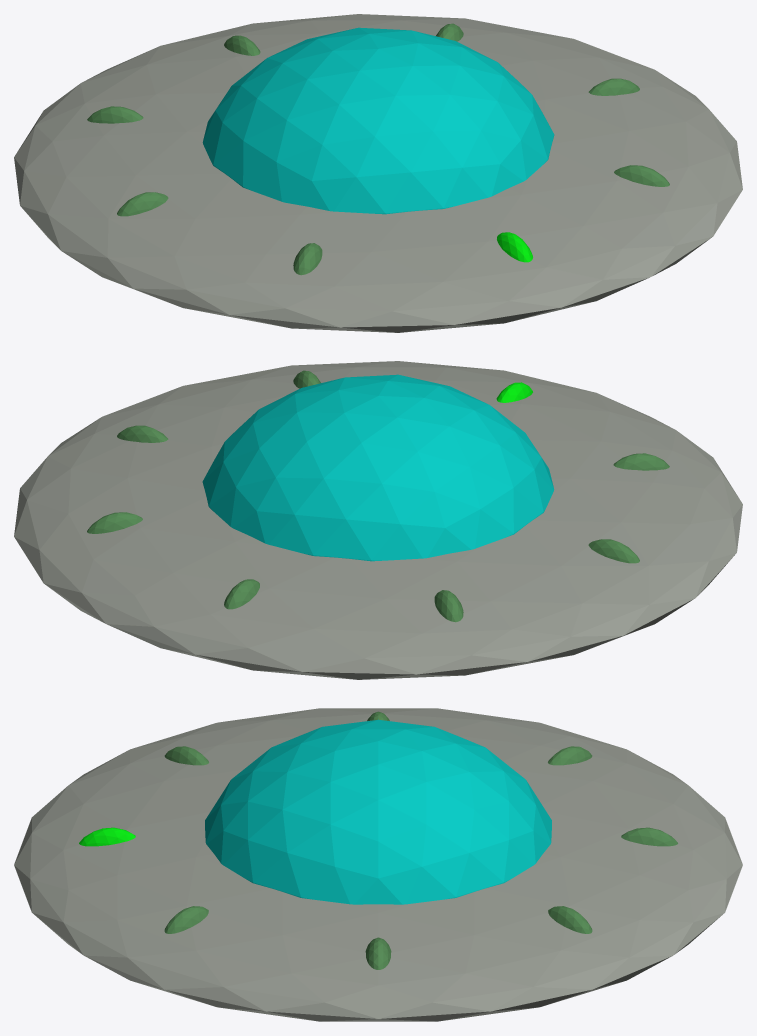
The model's file is UFO.glb.
3 renders of one model, top to bottom at view 1: azimuth 30°, elevation 25°; view 2: azimuth 150°, elevation 25°; view 3: azimuth 270°, elevation 25°, orthographic.
Visible parts, largest first — view 1: Icosphere, Icosphere.001, I1.011, I1.017, I1.016, I1.003, I1.014, I1.013, I1.012; view 2: Icosphere, Icosphere.001, I1.015, I1.017, I1.014, I1.012, I1.016, I1.013, I1.003; view 3: Icosphere, Icosphere.001, I1.012, I1.003, I1.011, I1.015, I1.013, I1.014, I1.016.
Part boxes in pixels (x1,y1,x2,y2): Icosphere: (14,14,742,332); Icosphere.001: (202,27,554,214); I1.011: (614,165,669,186); I1.017: (117,192,168,216); I1.016: (87,106,143,123); I1.003: (497,232,532,262); I1.014: (293,243,322,275); I1.013: (588,78,639,95); I1.012: (224,35,260,55); Icosphere: (14,361,742,679); Icosphere.001: (202,374,554,561); I1.015: (87,512,142,533); I1.017: (588,539,639,563); I1.014: (613,453,669,470); I1.012: (224,579,259,609); I1.016: (434,590,463,622); I1.013: (117,425,168,442); I1.003: (496,382,532,402); Icosphere: (14,708,742,1021); Icosphere.001: (205,719,551,904); I1.012: (621,827,677,846); I1.003: (79,827,135,846); I1.011: (164,906,208,933); I1.015: (548,906,592,933); I1.013: (365,937,391,969); I1.014: (164,746,208,765); I1.016: (548,746,592,765).
Bounding box in the file's own units: 6 × 2.25 × 6.
